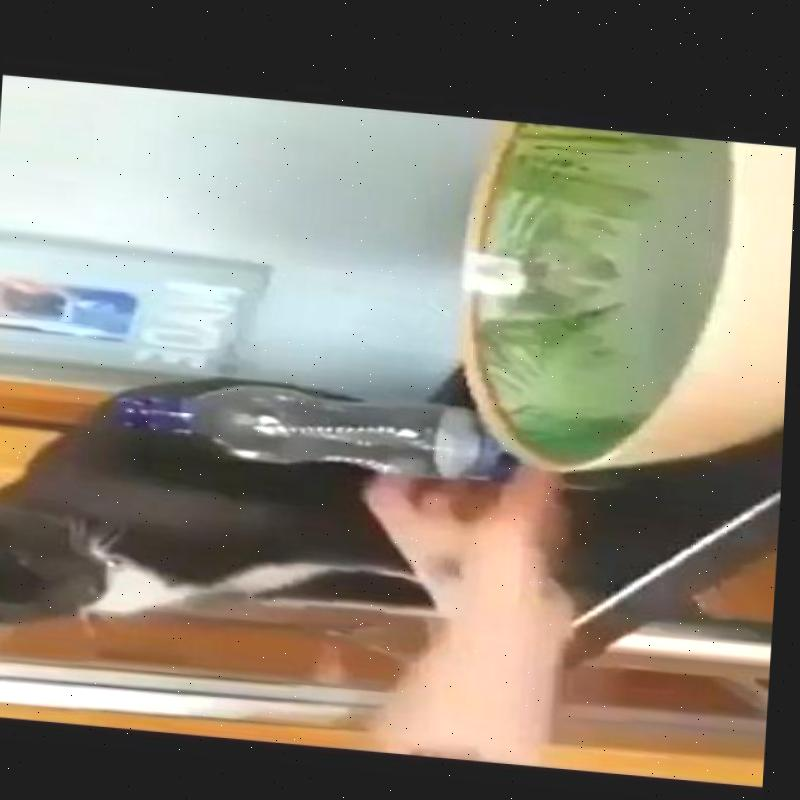botella: (119, 369, 621, 485)
